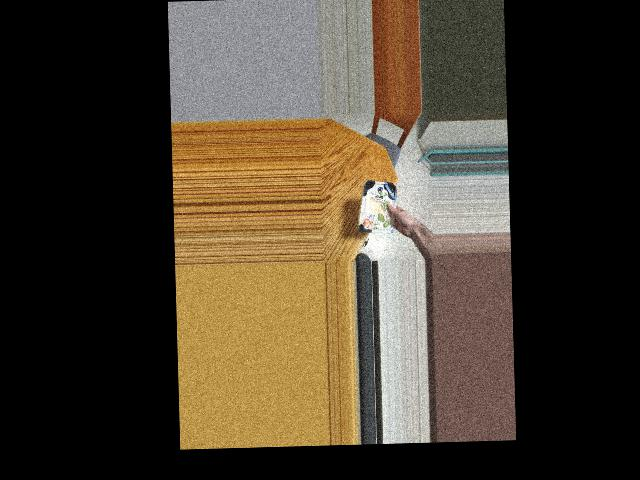cheese: (356, 181, 404, 234)
